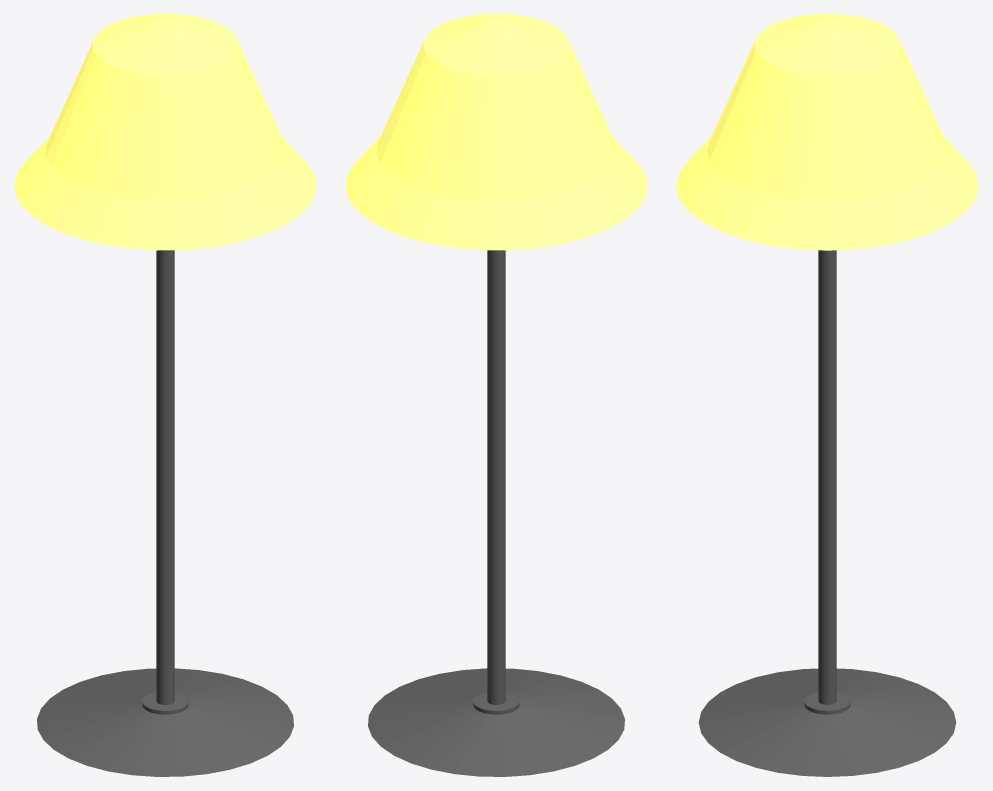
File: lamp.fbx
3 renders of one model, left to right at view 1: azimuth 30°, elevation 25°; view 2: azimuth 150°, elevation 25°; view 3: azimuth 270°, elevation 25°, orthographic.
Parts seen in each view (by area): view 1: lamp, LampHead; view 2: lamp, LampHead; view 3: lamp, LampHead.
Part boxes in pixels (bbox=[...]): lamp: bbox=[14, 14, 316, 250]; LampHead: bbox=[37, 250, 293, 776]; lamp: bbox=[345, 14, 647, 250]; LampHead: bbox=[368, 250, 624, 776]; lamp: bbox=[676, 14, 978, 250]; LampHead: bbox=[698, 250, 956, 776].
Bounding box in the file's own units: 92.77 × 236 × 92.77.
